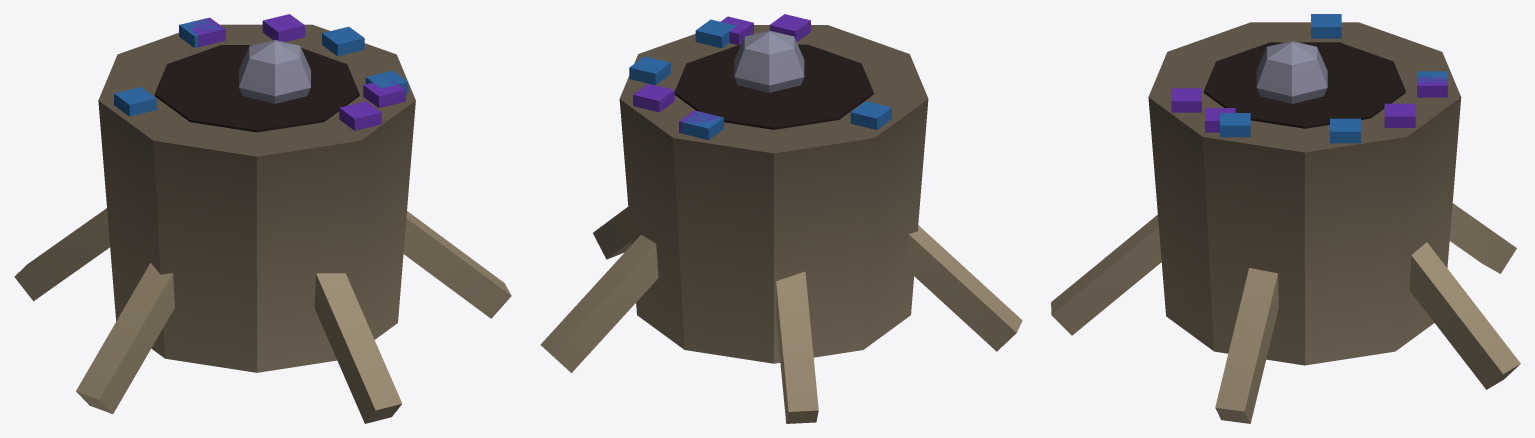
The model's file is wisp_nest.glb.
The picture shows the model from 3 angles, left to right: view 1: azimuth 30°, elevation 25°; view 2: azimuth 150°, elevation 25°; view 3: azimuth 270°, elevation 25°; orthographic projection. The views are drawn at different scales.
Parts seen in each view (by area): view 1: wisp_nest; view 2: wisp_nest; view 3: wisp_nest.
Boxes of the visible parts, x1=… form: wisp_nest: x1=14, y1=14, x2=511, y2=423; wisp_nest: x1=540, y1=14, x2=1022, y2=423; wisp_nest: x1=1051, y1=14, x2=1520, y2=423.
Bounding box in the file's own units: 1.92 × 1.25 × 1.83.
